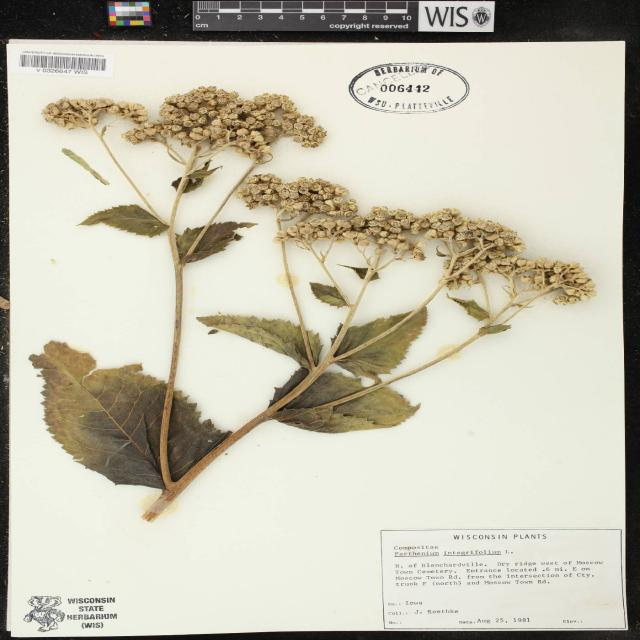Poisonous-Parthenium: (37, 83, 341, 521), (341, 183, 606, 459)
